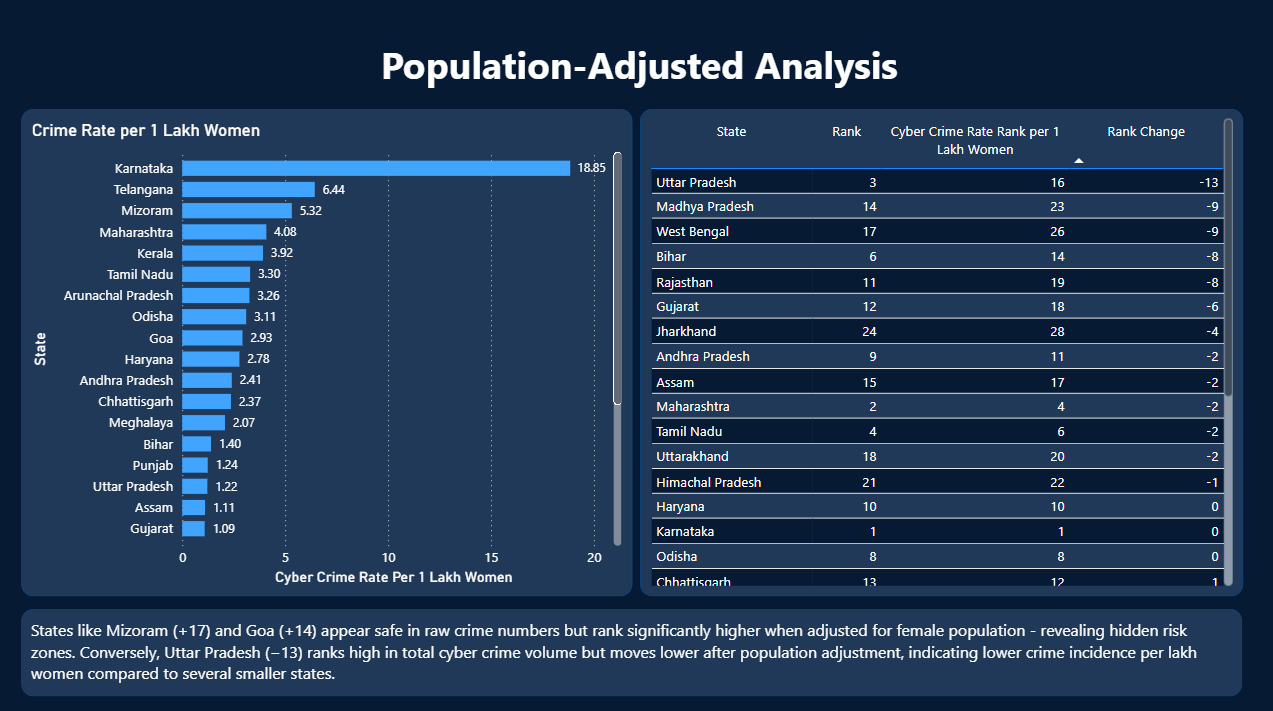

The page's visual inventory and layout, read from the dashboard file:
{"tool":"powerbi","page":{"name":"Page 2","canvas":[1280,720],"ordinal":1},"visuals":[{"type":"textbox","box":[350,40,578.8,58.8],"z":0},{"type":"barChart","title":"Crime Rate per 1 Lakh Women","fields":{"Y":["Sum(Crime Rate Per Lakh.Cyber Crime Rate per 1 Lakh Women)"],"Category":["Crime Rate Per Lakh.State"]},"box":[21.4,110,590,487.1],"z":1000},{"type":"tableEx","fields":{"Values":["Rank and Contribution.State","Rank and Contribution.Rank","Crime Rate Per Lakh.Cyber Crime Rate Rank per 1 Lakh Women","Crime Rate Per Lakh.Rank Change"]},"box":[640,110,602.9,487.1],"z":2000},{"type":"textbox","box":[21.7,610.5,1220.9,86.9],"z":3000}]}

Visuals, with their boxes in screenshot pixels (x1, y1, x2, y2), scaled from the page's 1280x720 canvas onto the 1273x711 screenshot:
textbox: rect(348, 40, 924, 98)
"Crime Rate per 1 Lakh Women" barChart: rect(21, 109, 608, 590)
tableEx - Rank and Contribution.State x Rank and Contribution.Rank: rect(636, 109, 1236, 590)
textbox: rect(22, 603, 1236, 689)
